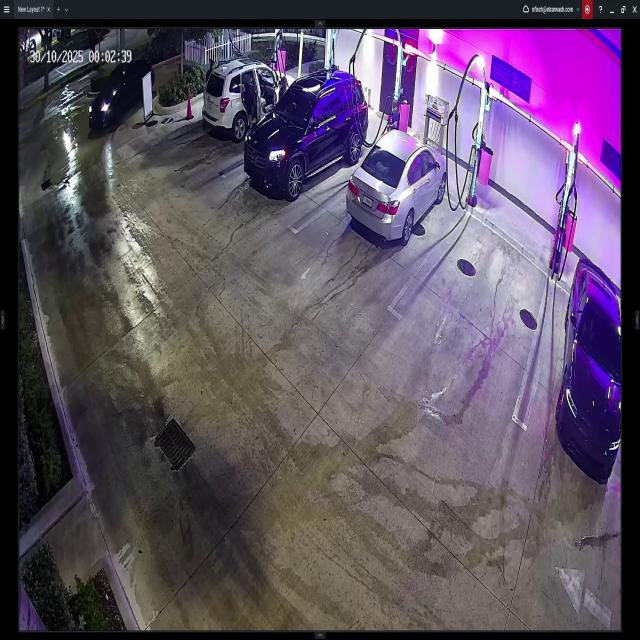Car: (243, 72, 368, 200), (555, 258, 621, 482), (345, 131, 448, 243), (202, 54, 288, 141), (88, 60, 154, 126)
